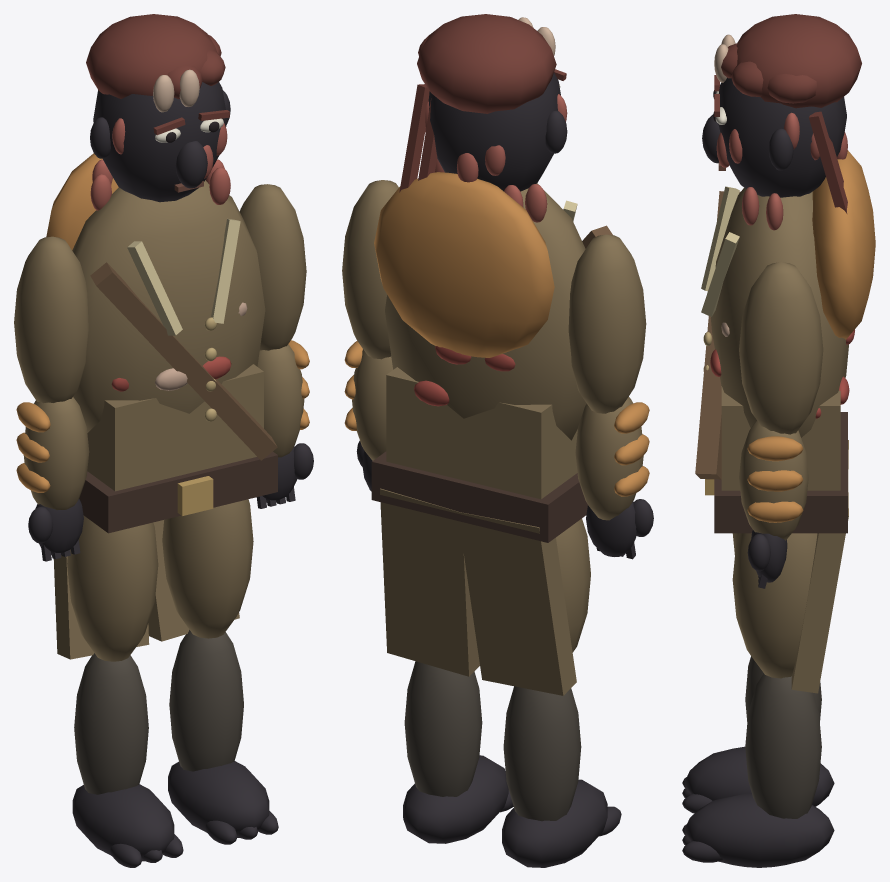
File: workform.glb
3 renders of one model, left to right at view 1: azimuth 30°, elevation 25°; view 2: azimuth 150°, elevation 25°; view 3: azimuth 270°, elevation 25°, orthographic. The views are drawn at different scales.
Visible parts, largest first — view 1: workform_10_stone, shin_and_foot_stone (×2), face_and_hair_stone, thigh_stone (×2), upper_arm_stone (×2), forearm_and_fingers_stone (×2), split_cloth_stone, workform_10_metal; view 2: workform_10_stone, shin_and_foot_stone (×2), split_cloth_stone, face_and_hair_stone, upper_arm_stone (×2), forearm_and_fingers_stone (×2), thigh_stone; view 3: workform_10_stone, face_and_hair_stone, shin_and_foot_stone (×2), upper_arm_stone, forearm_and_fingers_stone, thigh_stone, split_cloth_stone.
Boxes of the visible parts, x1,y1,x2,y2 form: workform_10_stone: (46, 153, 277, 533); shin_and_foot_stone (×2): (72, 630, 278, 867); face_and_hair_stone: (86, 14, 230, 210); thigh_stone (×2): (67, 499, 253, 661); upper_arm_stone (×2): (14, 184, 306, 403); forearm_and_fingers_stone (×2): (16, 340, 313, 561); split_cloth_stone: (53, 520, 239, 659); workform_10_metal: (177, 317, 216, 515); workform_10_stone: (371, 172, 612, 542); shin_and_foot_stone (×2): (403, 661, 621, 867); split_cloth_stone: (380, 488, 576, 695); face_and_hair_stone: (399, 14, 567, 222); upper_arm_stone (×2): (342, 180, 646, 413); forearm_and_fingers_stone (×2): (344, 341, 653, 559); thigh_stone: (556, 518, 590, 652); workform_10_stone: (695, 150, 875, 533); face_and_hair_stone: (702, 14, 861, 230); shin_and_foot_stone (×2): (682, 656, 834, 867); upper_arm_stone: (739, 262, 823, 434); forearm_and_fingers_stone: (739, 420, 808, 588); thigh_stone: (732, 533, 817, 678); split_cloth_stone: (791, 440, 848, 693).
Bounding box in the file's own units: 0.684 × 1.86 × 0.399.
